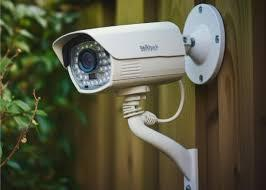Monitor: (37, 0, 242, 161)
